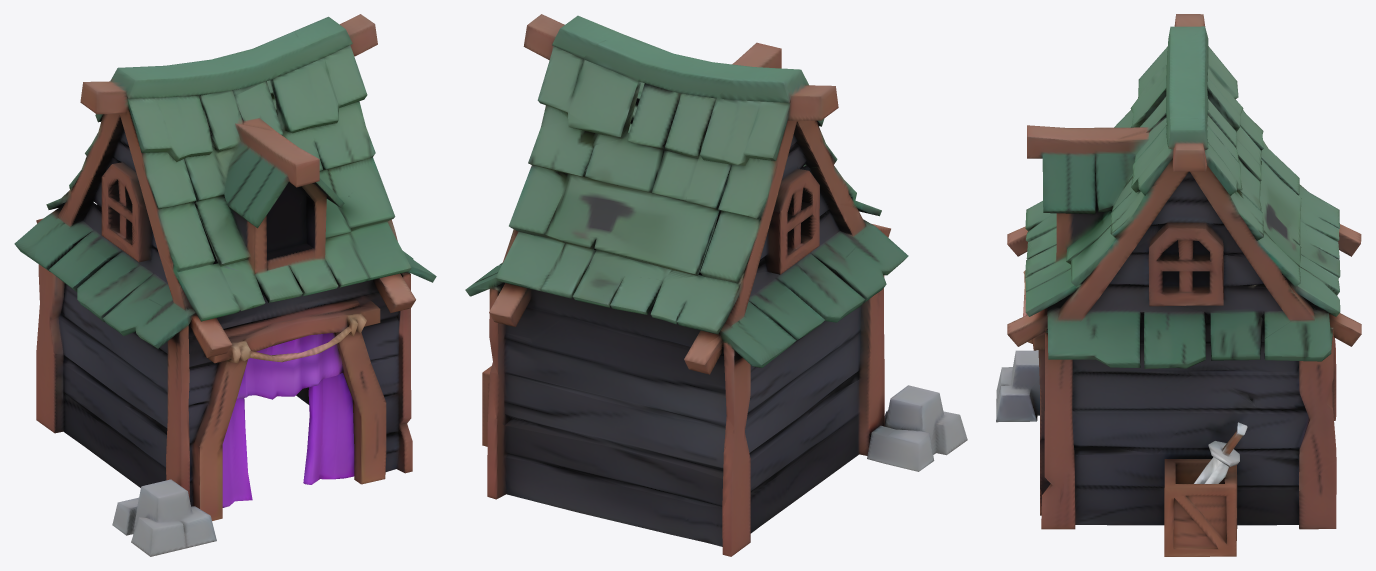
File: base_basic_shaded.fbx
The picture shows the model from 3 angles, left to right: view 1: azimuth 30°, elevation 25°; view 2: azimuth 150°, elevation 25°; view 3: azimuth 270°, elevation 25°; orthographic projection. The views are drawn at different scales.
Parts seen in each view (by area): view 1: model; view 2: model; view 3: model.
Boxes of the visible parts, x1,y1,x2,y2 form: model: (14,14,436,556); model: (465,14,967,556); model: (996,14,1361,556).
Bounding box in the file's own units: 165 × 185 × 153.
